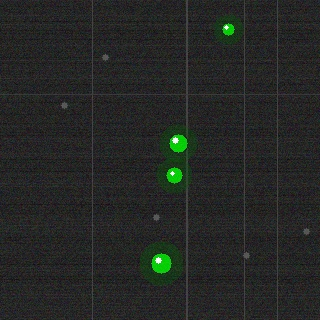green_normal: (149, 251, 173, 275), (167, 132, 189, 154), (164, 165, 184, 185), (220, 21, 236, 37)
